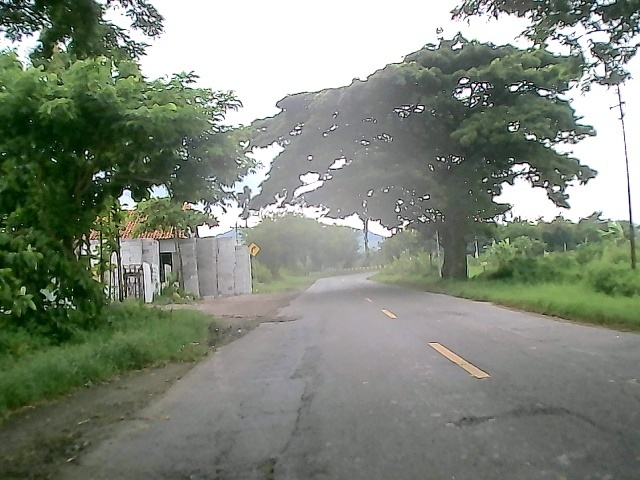Tikungan ke kanan: (246, 240, 261, 257)
